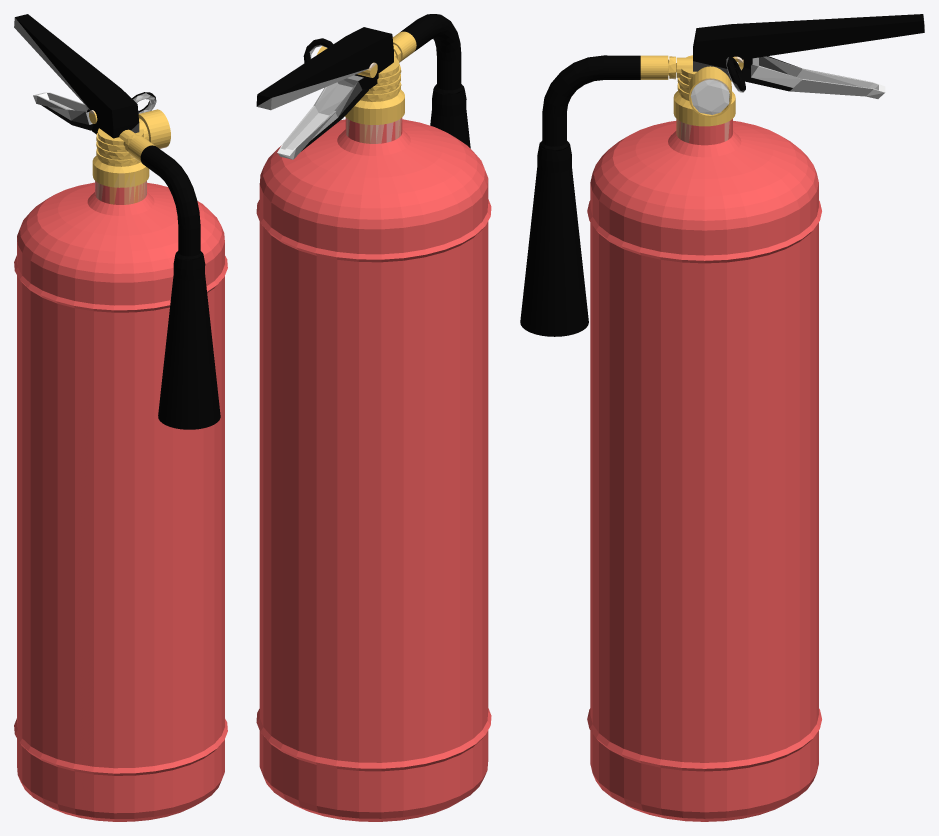
Rendered from fireExtinguisher.dae.
The picture shows the model from 3 angles, left to right: view 1: azimuth 30°, elevation 25°; view 2: azimuth 150°, elevation 25°; view 3: azimuth 270°, elevation 25°; orthographic projection. The views are drawn at different scales.
Parts seen in each view (by area): view 1: fireExtinguisher; view 2: fireExtinguisher; view 3: fireExtinguisher.
Boxes of the visible parts, x1,y1,x2,y2 form: fireExtinguisher: [14, 14, 227, 821]; fireExtinguisher: [256, 14, 491, 821]; fireExtinguisher: [520, 14, 924, 821].
Size of the model in its own units: 0.1717 by 0.2955 by 0.6144.
